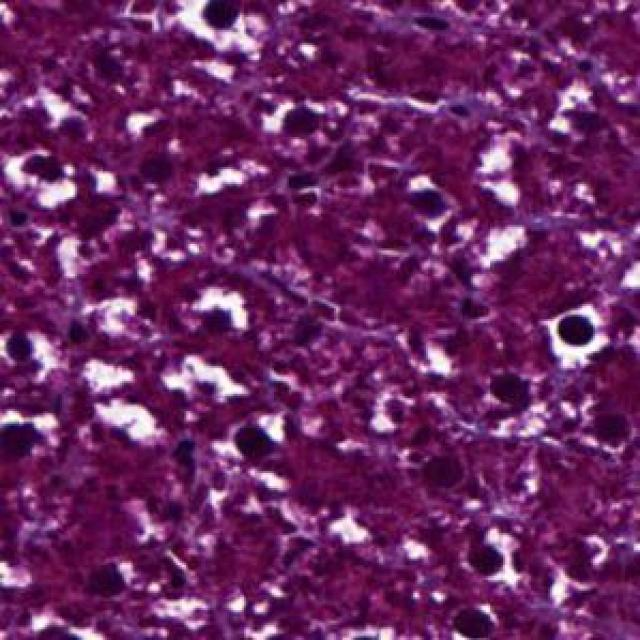inflammation: (218, 409, 302, 471), (178, 280, 257, 336), (542, 300, 610, 364)
